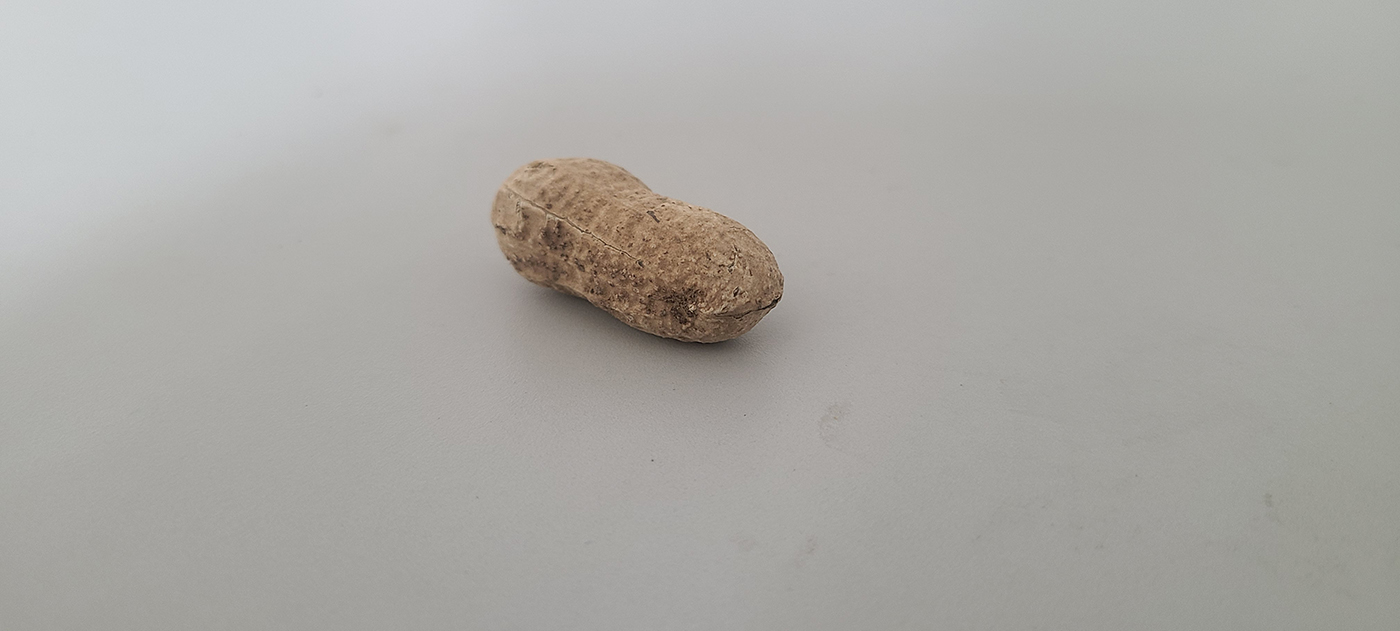h: (489, 151, 786, 349)
